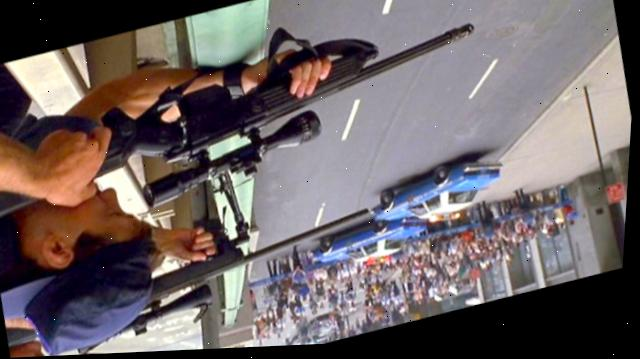rifle: (0, 0, 507, 250)
